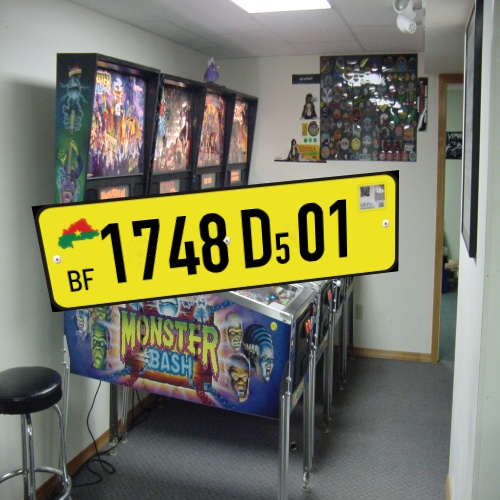plate: (15, 151, 418, 317)
